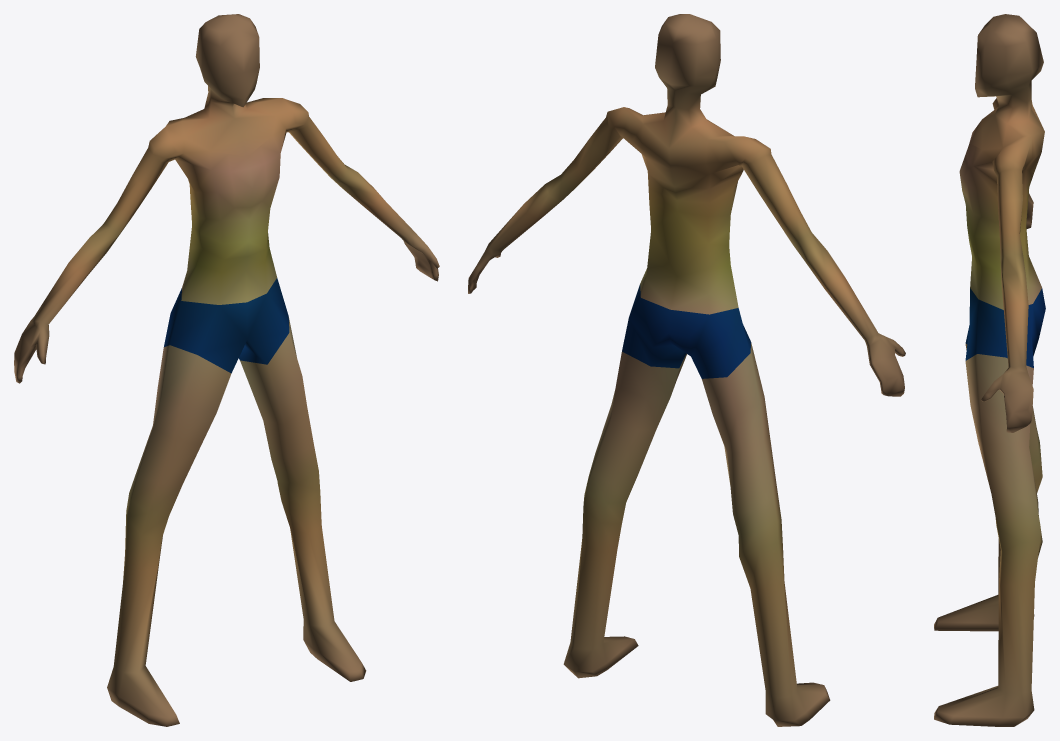
The model's file is playa.glb.
The picture shows the model from 3 angles, left to right: view 1: azimuth 30°, elevation 25°; view 2: azimuth 150°, elevation 25°; view 3: azimuth 270°, elevation 25°; orthographic projection. The views are drawn at different scales.
Parts seen in each view (by area): view 1: player; view 2: player; view 3: player.
Part boxes in pixels (left/top/right/bottom): player: left=14, top=14, right=439, bottom=726; player: left=468, top=14, right=905, bottom=726; player: left=934, top=14, right=1045, bottom=726.
Size of the model in its own units: 1.2 by 1.8 by 0.2777.
